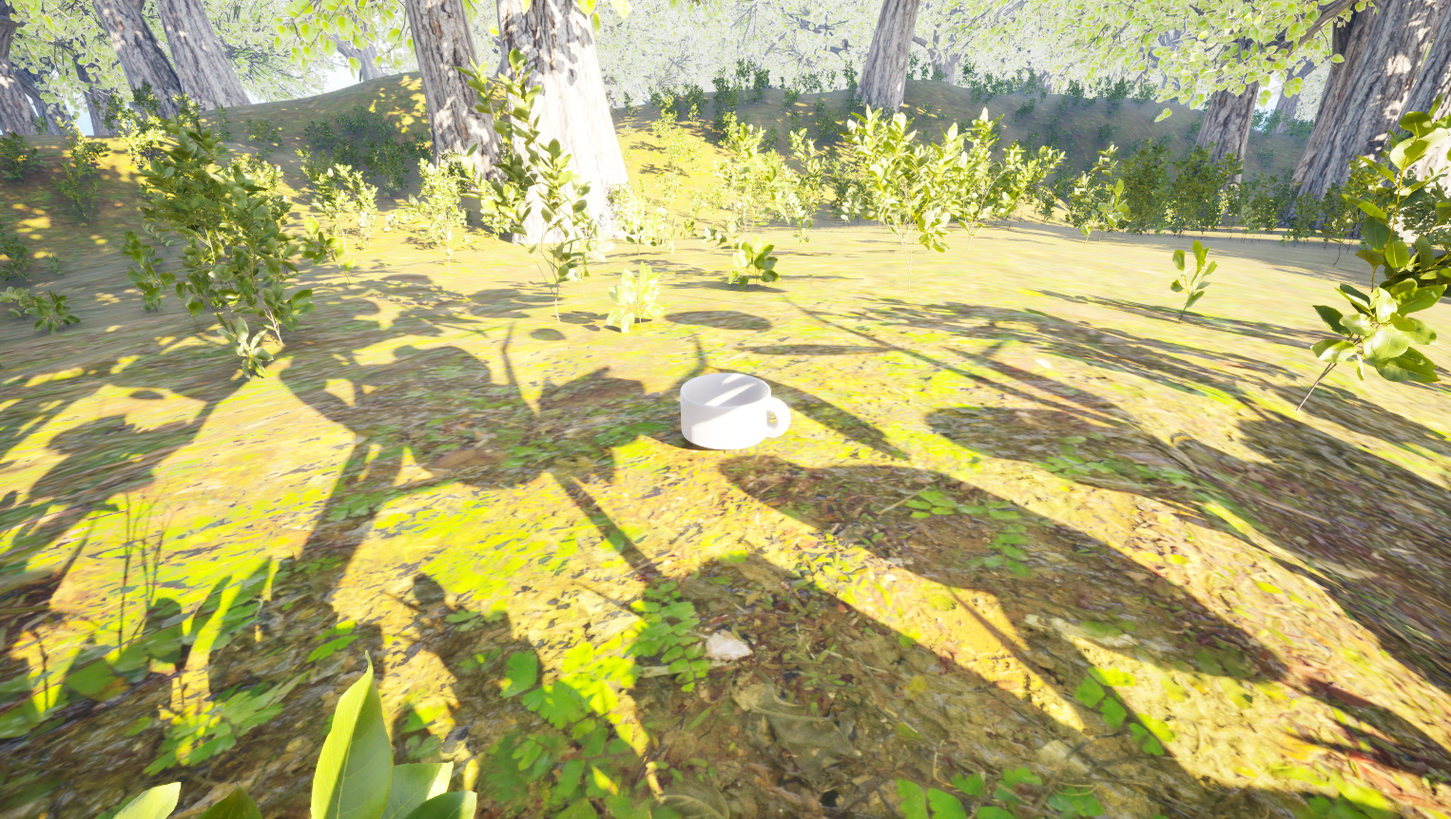Teacup: (664, 367, 798, 465)
